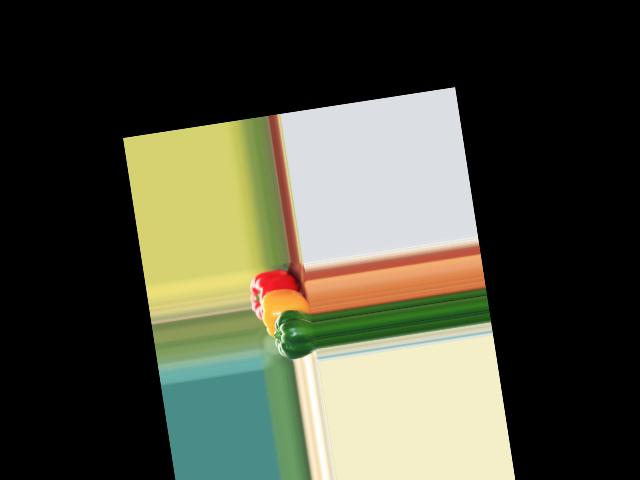bell_pepper: (247, 266, 309, 321)
